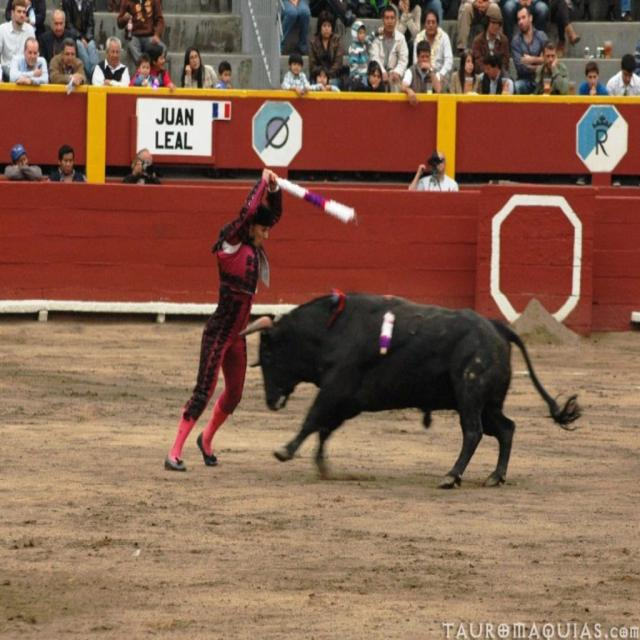Deer: (239, 290, 581, 485)
